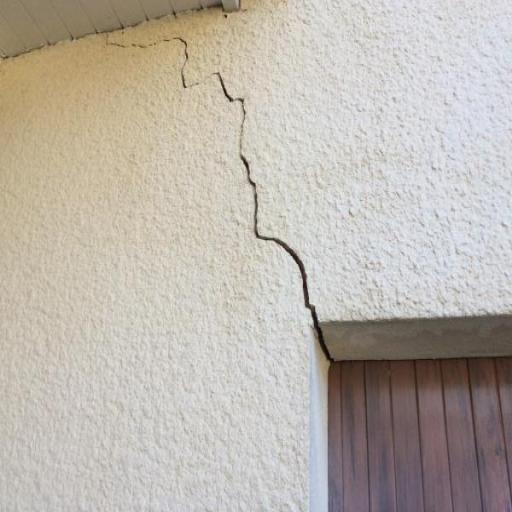spalling: (110, 28, 338, 365)
